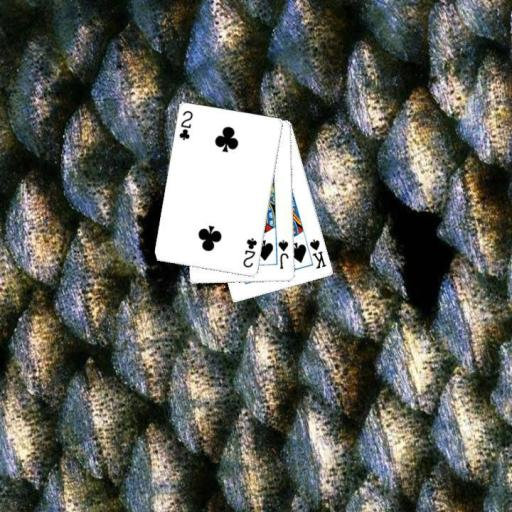2C: (176, 108, 195, 143), (240, 236, 259, 270)
JS: (275, 237, 290, 270)
KS: (306, 236, 328, 270)
